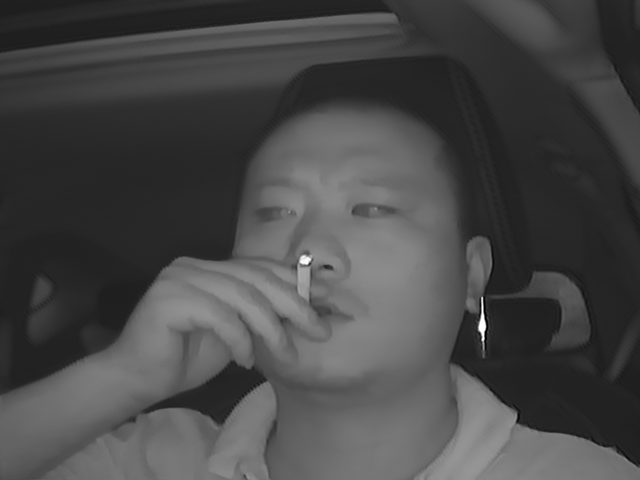hand: (171, 248, 326, 370)
